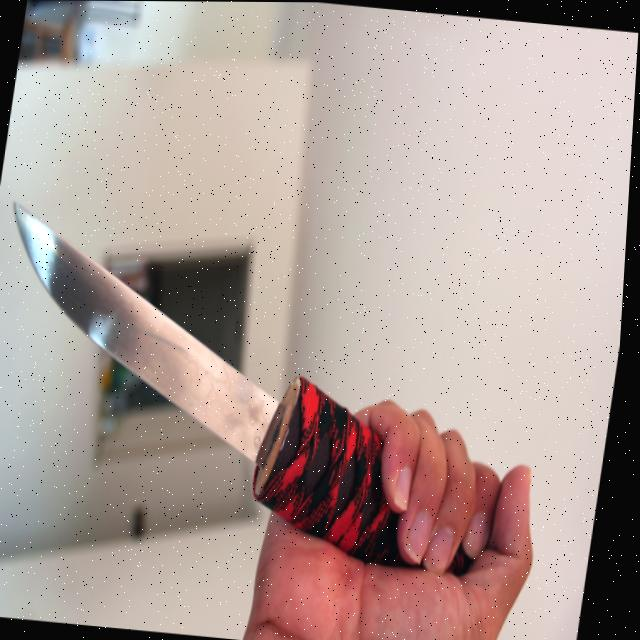knife: (0, 189, 532, 581)
